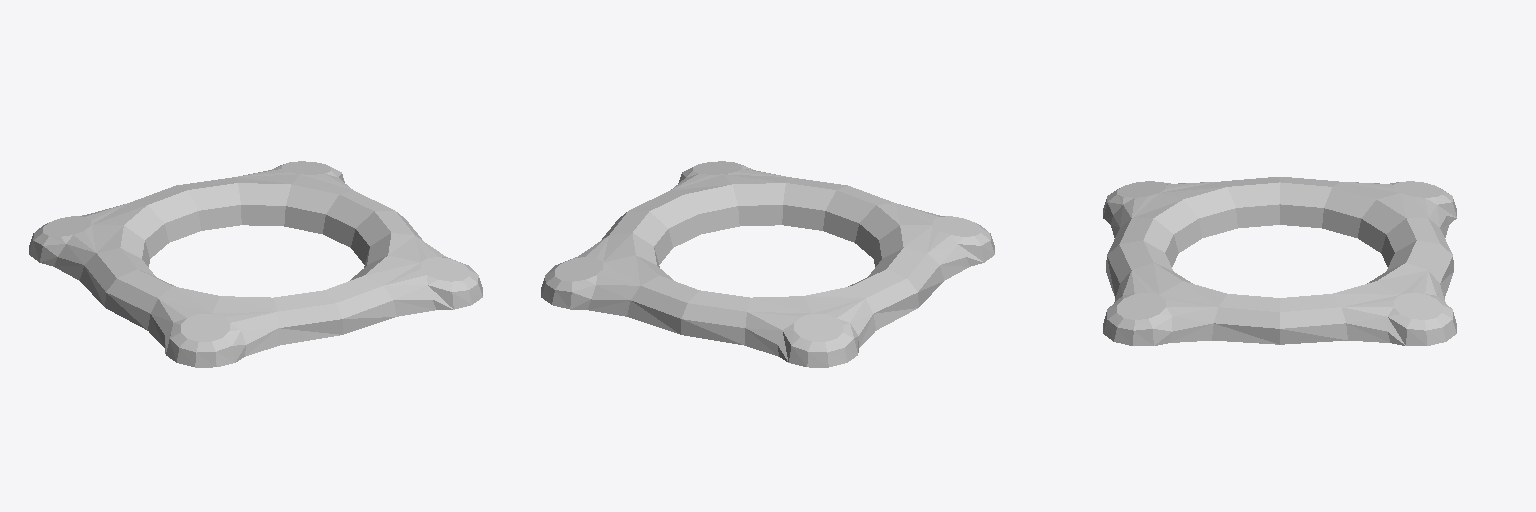
Rendered from P_Trafo_Stone_MF.obj.
The picture shows the model from 3 angles: view 1: azimuth 30°, elevation 25°; view 2: azimuth 150°, elevation 25°; view 3: azimuth 270°, elevation 25°; orthographic projection.
Visible parts, largest first — view 1: P_Trafo_Stone_MF; view 2: P_Trafo_Stone_MF; view 3: P_Trafo_Stone_MF.
Part boxes in pixels (bbox=[...]): P_Trafo_Stone_MF: bbox=[29, 161, 482, 367]; P_Trafo_Stone_MF: bbox=[541, 161, 994, 367]; P_Trafo_Stone_MF: bbox=[1103, 177, 1456, 345].
Size of the model in its own units: 4.93 by 0.4835 by 4.93.